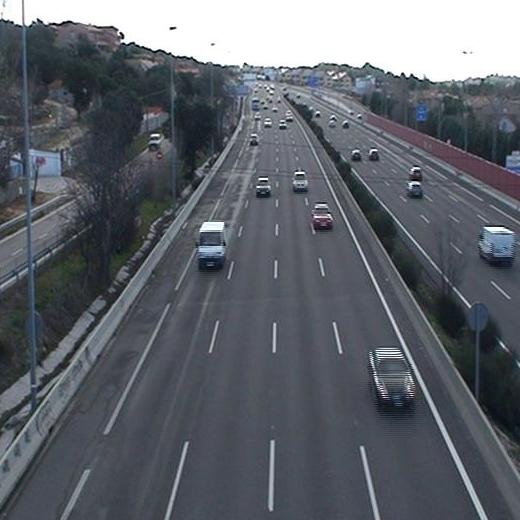car: (367, 345, 416, 408), (310, 203, 334, 229), (292, 170, 310, 192), (253, 177, 271, 196), (250, 134, 259, 145)
van: (195, 222, 229, 271)
